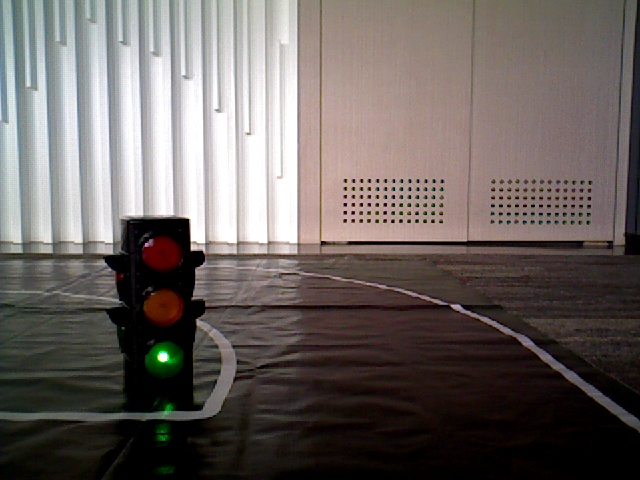green: (125, 223, 186, 382)
